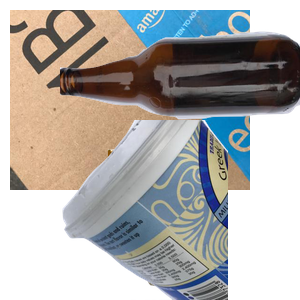cardboard: (10, 10, 250, 190)
glass: (60, 29, 300, 141)
plastic: (60, 120, 300, 300)
trash: (103, 147, 300, 300)
